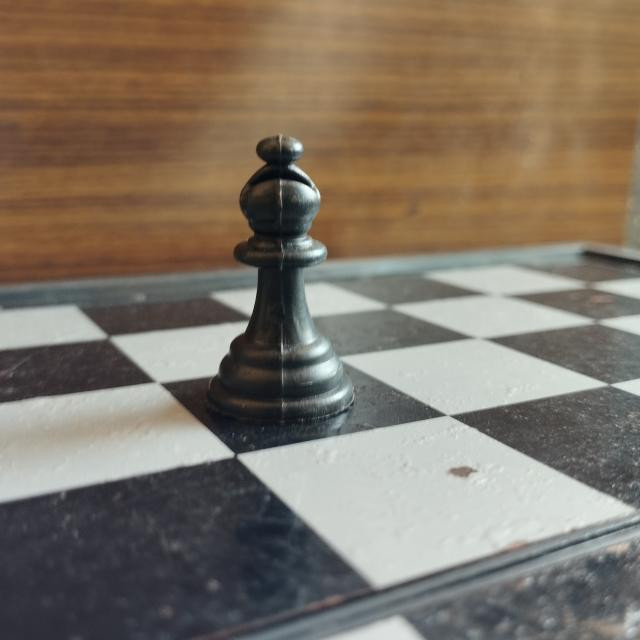Black Bishop: (198, 125, 366, 419)
